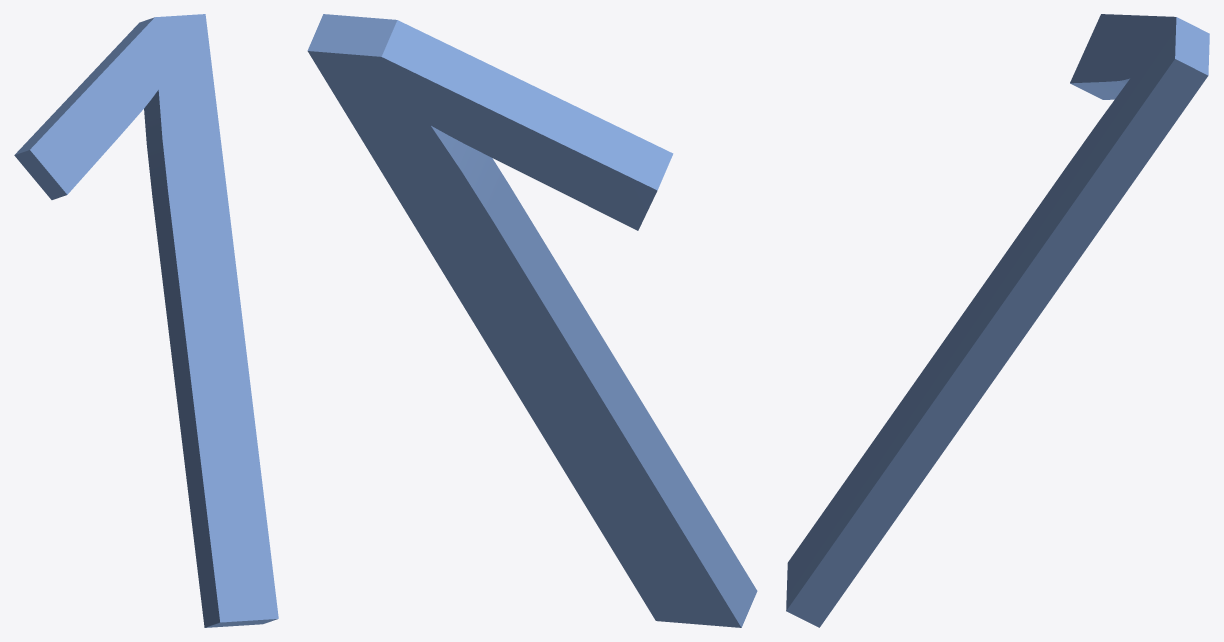
The model's file is New_Number_1.gltf.
3 views of the same model, side by side, from view 1: azimuth 30°, elevation 25°; view 2: azimuth 150°, elevation 25°; view 3: azimuth 270°, elevation 25° (orthographic). The views are drawn at different scales.
Parts seen in each view (by area): view 1: Part 73; view 2: Part 73; view 3: Part 73.
Part boxes in pixels (x1,y1,x2,y2): Part 73: (14, 14, 278, 627); Part 73: (307, 14, 757, 627); Part 73: (786, 14, 1209, 627).
Size of the model in its own units: 0.00197 by 0.00451 by 0.00274.
